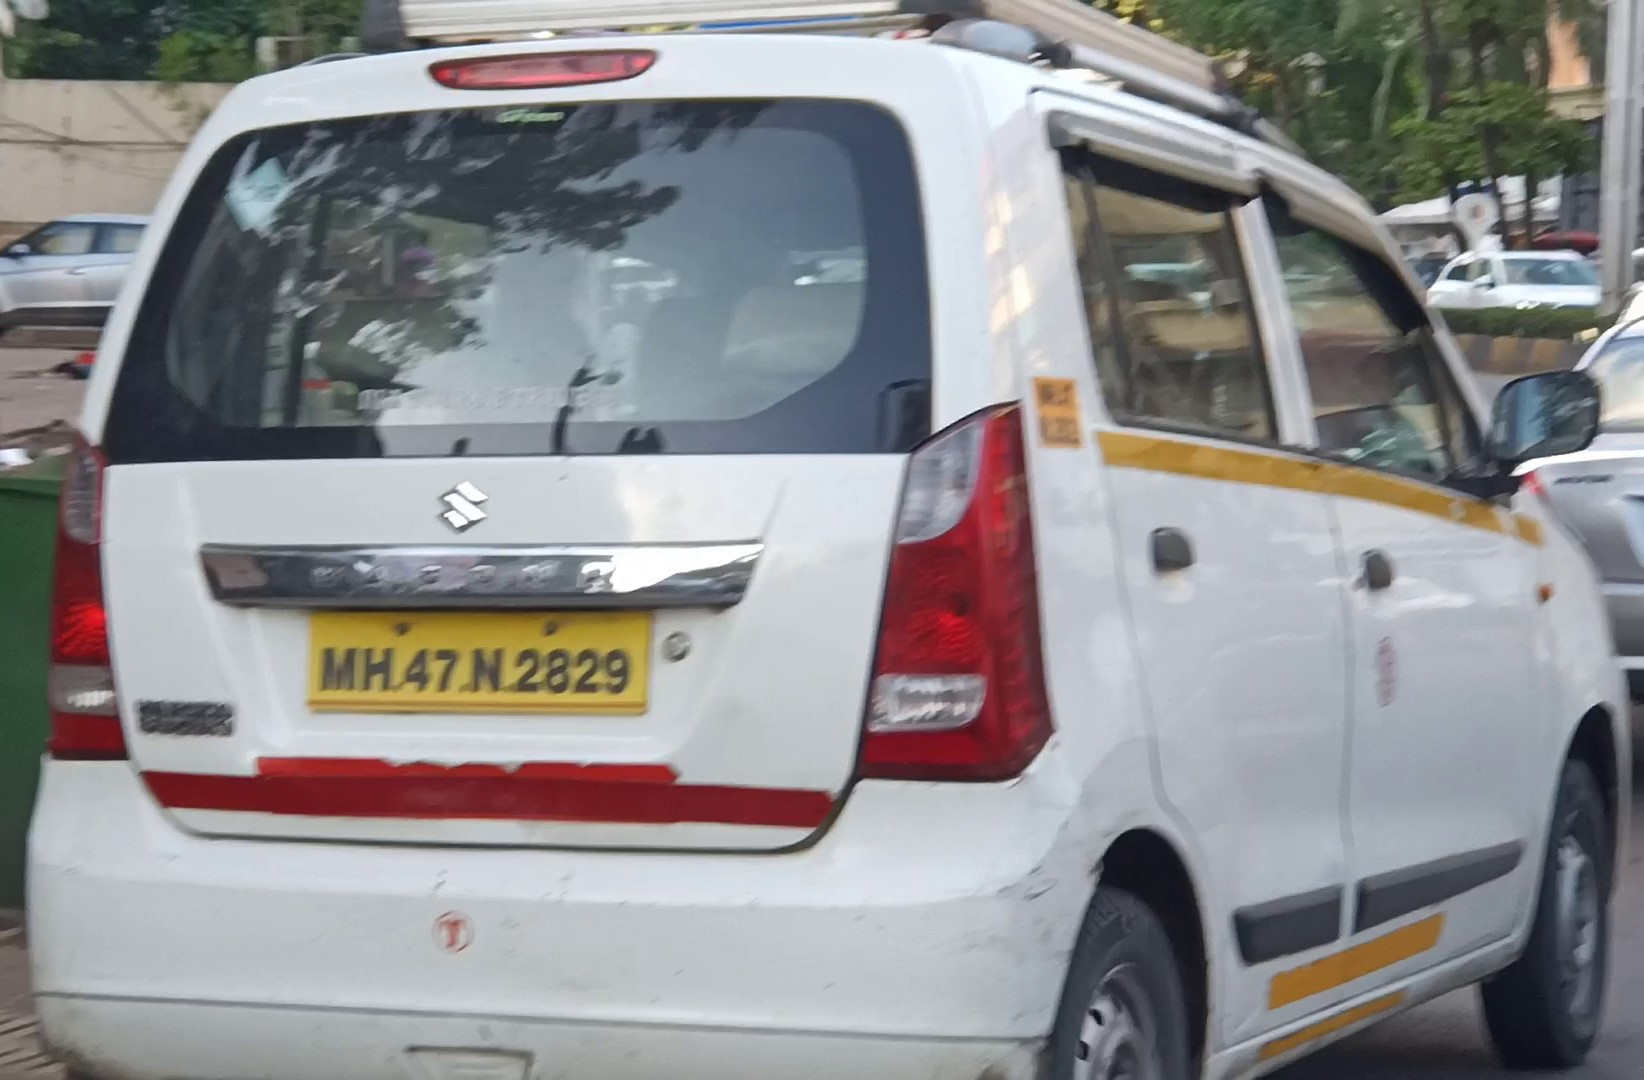MH47N2829: (309, 606, 649, 703)
